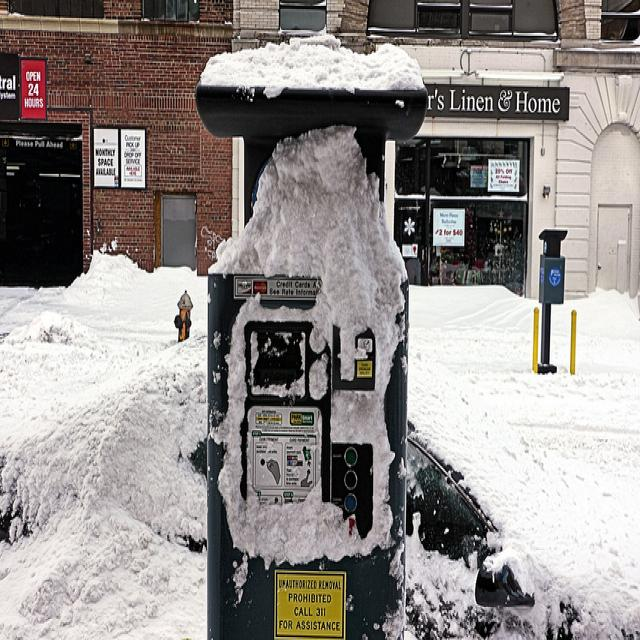Vehicle: (0, 337, 640, 640)
